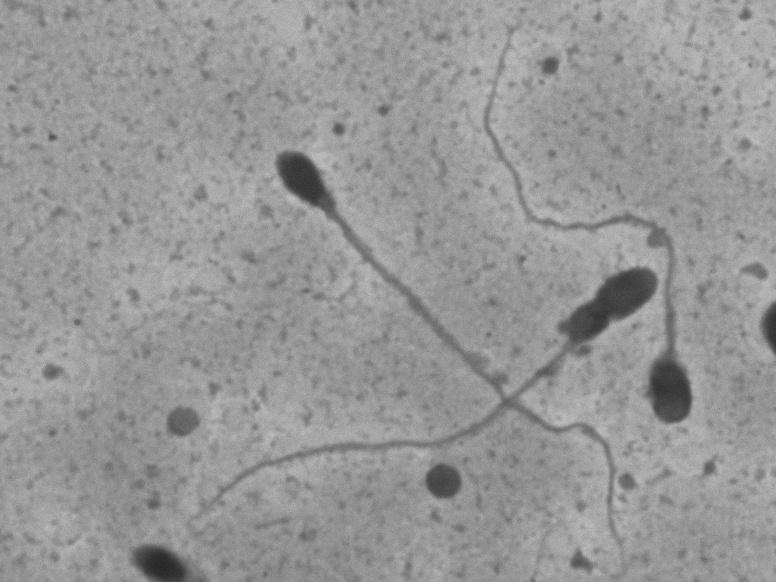Abnormal: (452, 6, 709, 439), (236, 91, 408, 338), (514, 242, 668, 398)
